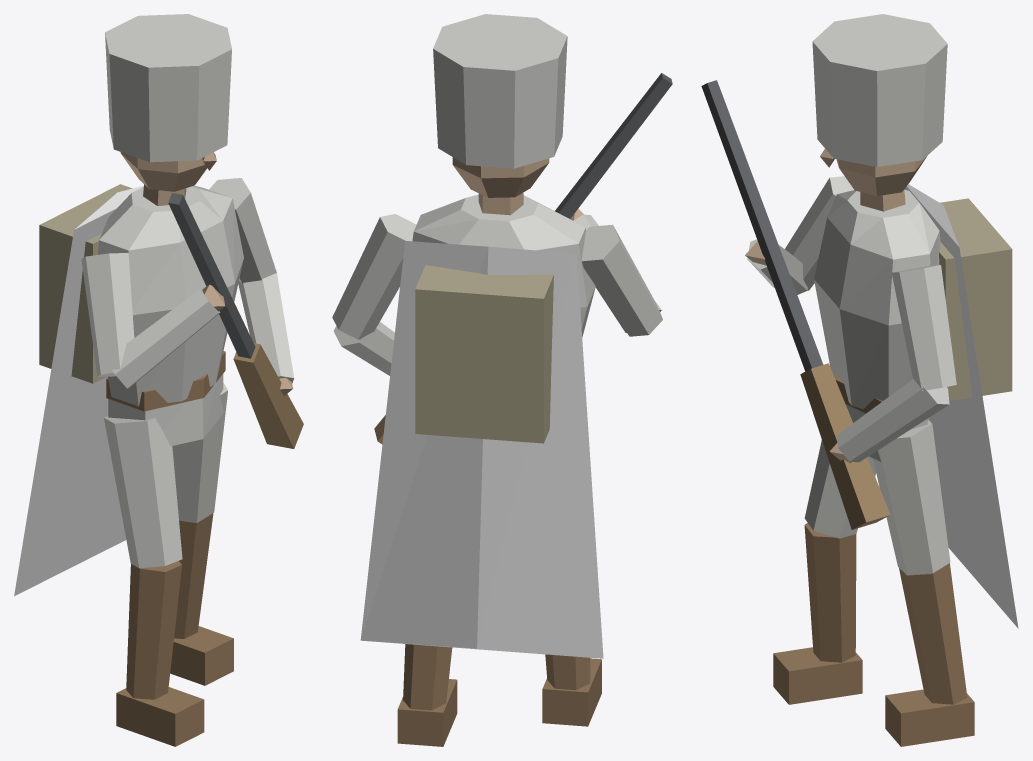
File: norwegian-ski-infantry.glb
3 renders of one model, left to right at view 1: azimuth 30°, elevation 25°; view 2: azimuth 150°, elevation 25°; view 3: azimuth 270°, elevation 25°, orthographic. The views are drawn at different scales.
Parts seen in each view (by area): view 1: LOD0; view 2: LOD0; view 3: LOD0.
Part boxes in pixels (x1=…): LOD0: x1=14, y1=14, x2=303, y2=746; LOD0: x1=332, y1=14, x2=672, y2=746; LOD0: x1=701, y1=14, x2=1018, y2=746.
Size of what is drawn, in the model's own units: 0.4283 by 1.03 by 0.4452.
